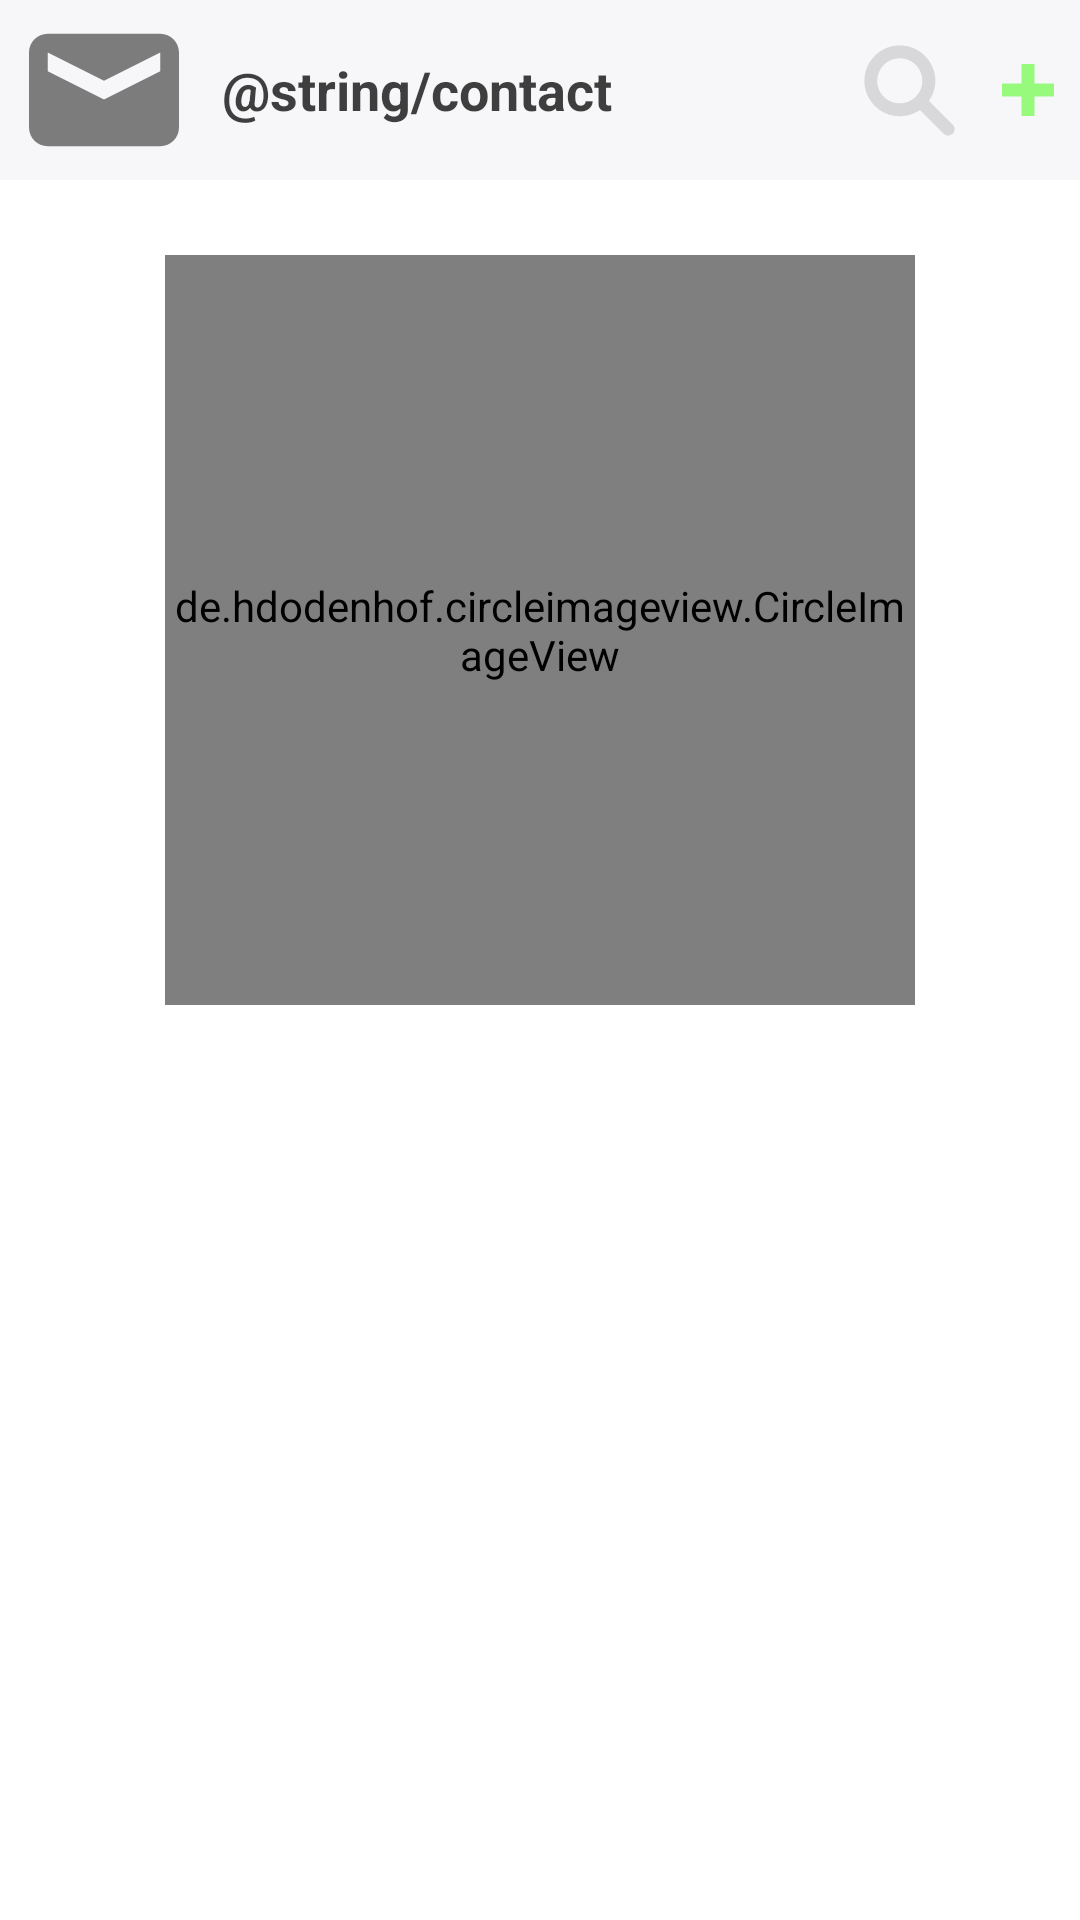

Where to tap for icons on this 1080×1920 app screen, as point (x, y):
mail: point (104, 90)
plus: point (1028, 90)
search: point (909, 90)
